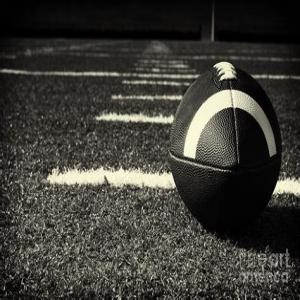Rugby: (167, 60, 282, 231)
